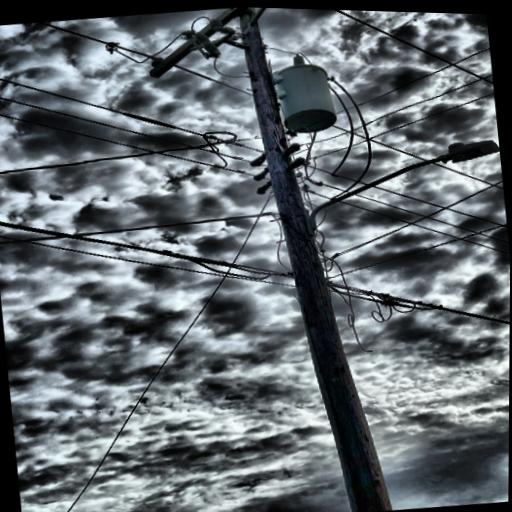pole: (230, 7, 433, 512)
street light: (290, 130, 508, 245)
transformer: (270, 58, 341, 139)
